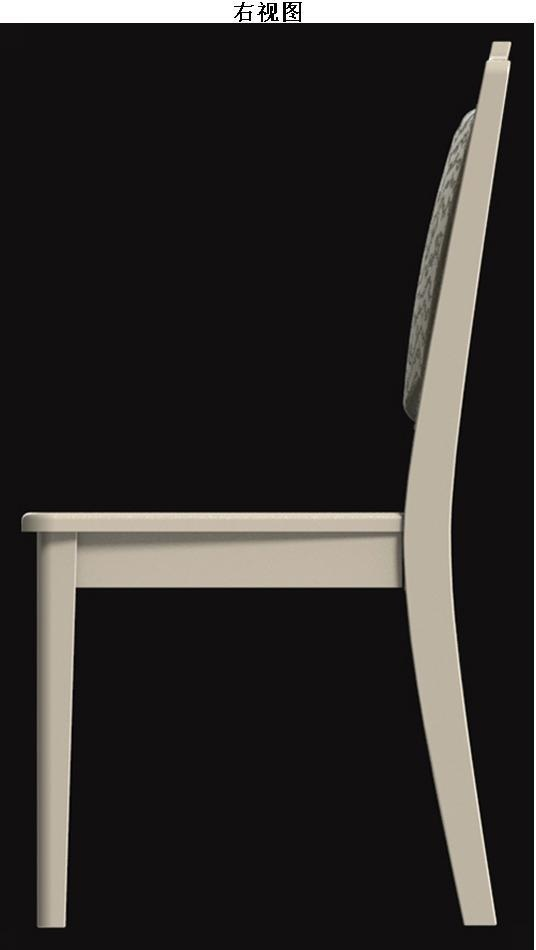obstacle: (22, 41, 510, 927)
